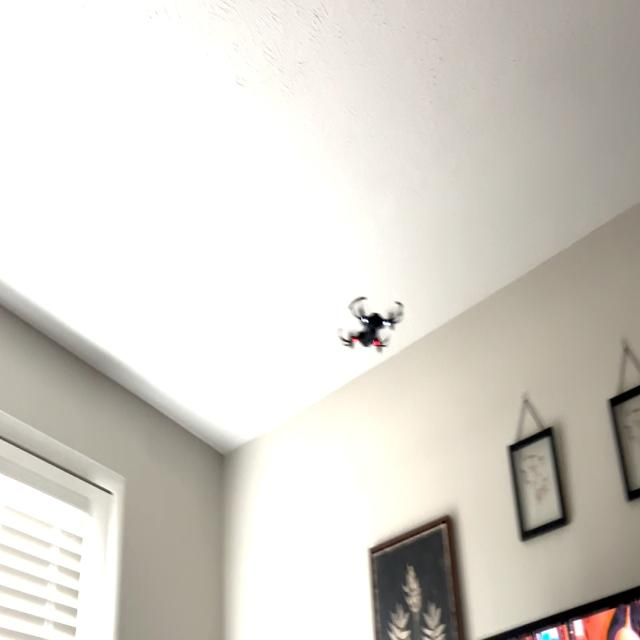drone: (328, 273, 408, 364)
